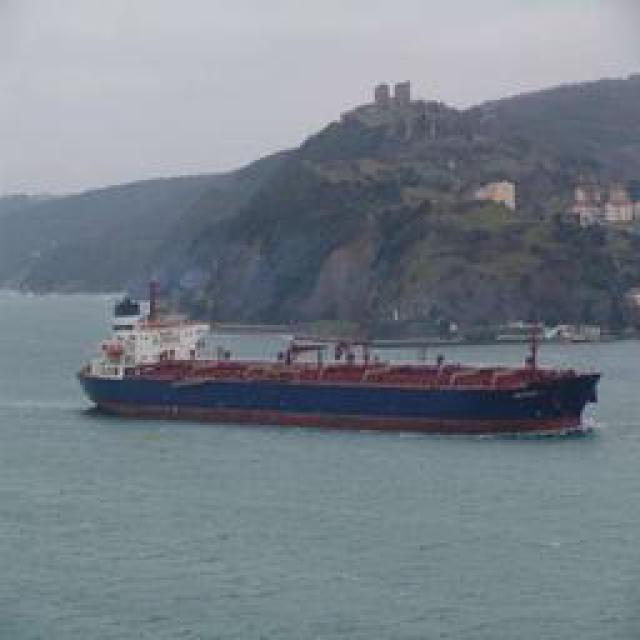Ship: (77, 304, 607, 437)
